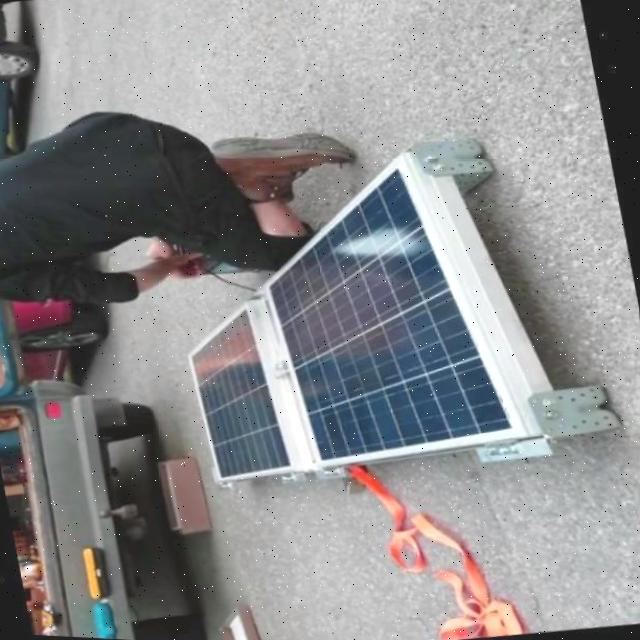Normal Solar Panel: (246, 142, 534, 480), (184, 305, 302, 489)
